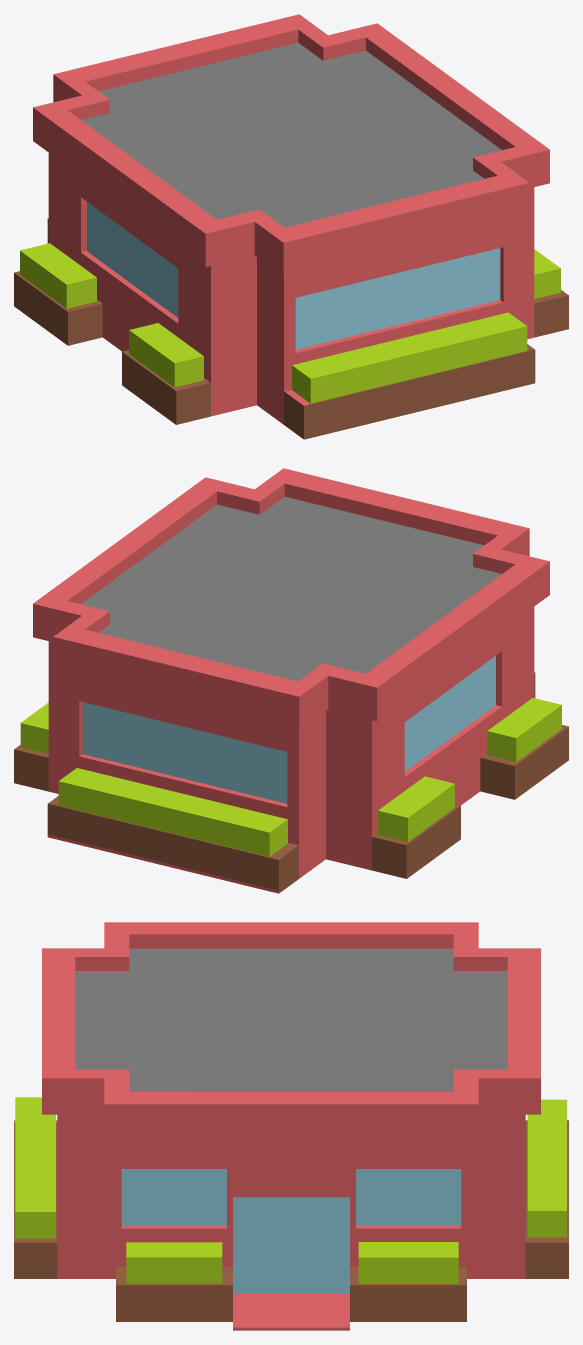
File: Shop.fbx
The picture shows the model from 3 angles, top to bottom: view 1: azimuth 30°, elevation 25°; view 2: azimuth 150°, elevation 25°; view 3: azimuth 270°, elevation 25°; orthographic projection. The views are drawn at different scales.
Visible parts, largest first — view 1: Cube; view 2: Cube; view 3: Cube.
Boxes of the visible parts, x1=… form: Cube: x1=14, y1=14, x2=568, y2=439; Cube: x1=14, y1=468, x2=568, y2=893; Cube: x1=14, y1=922, x2=568, y2=1330.
Size of the model in its own units: 355 by 156 by 384.
